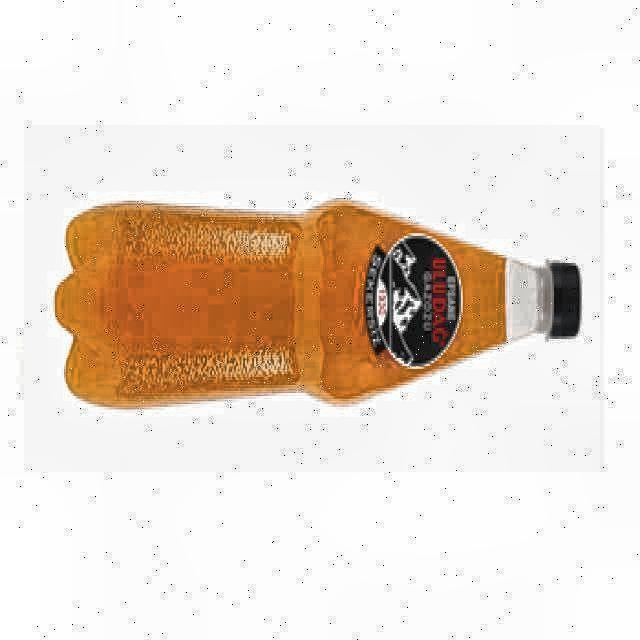plastic: (55, 202, 580, 406)
